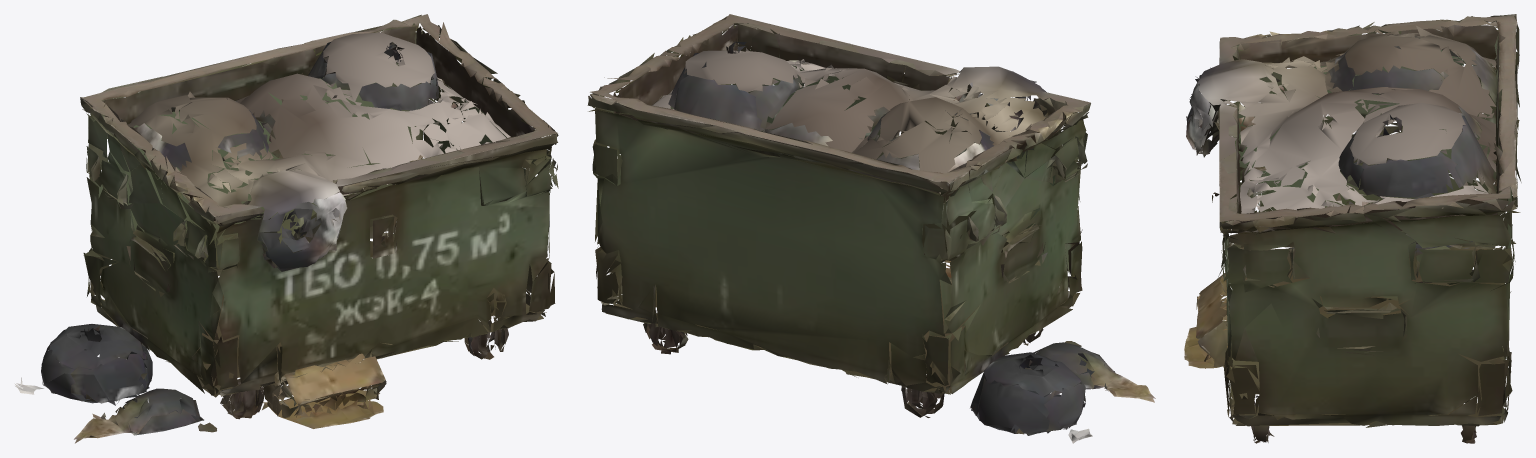
File: trash_dumpster_open.glb
The picture shows the model from 3 angles, left to right: view 1: azimuth 30°, elevation 25°; view 2: azimuth 150°, elevation 25°; view 3: azimuth 270°, elevation 25°; orthographic projection. The views are drawn at different scales.
Visible parts, largest first — view 1: model; view 2: model; view 3: model.
Boxes of the visible parts, bbox=[...] form: model: bbox=[14, 14, 558, 443]; model: bbox=[587, 14, 1155, 443]; model: bbox=[1184, 14, 1521, 443].
Size of the model in its own units: 1.9 by 1.14 by 1.1.
1 material, 1 textured.
